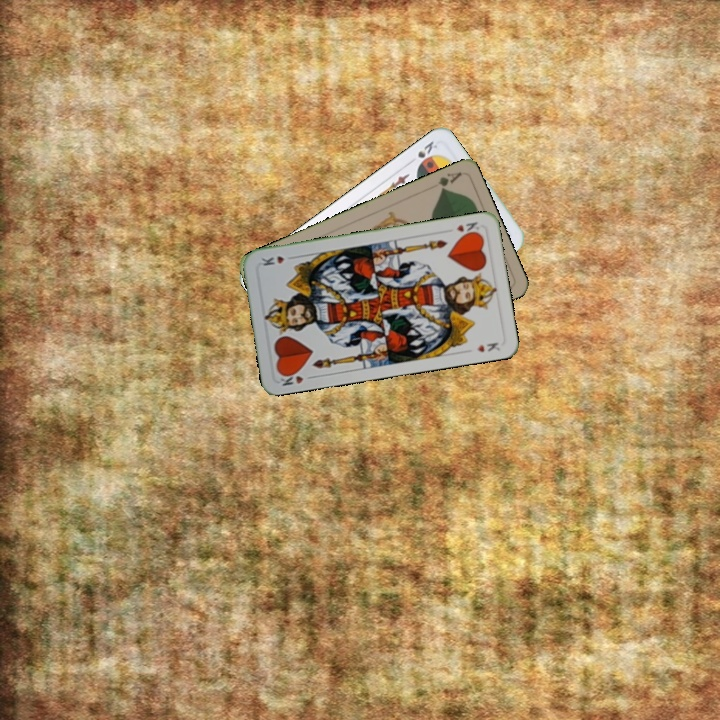GA: (434, 168, 464, 194)
HK: (275, 367, 316, 389), (452, 218, 482, 238)
SK: (413, 137, 440, 161)
